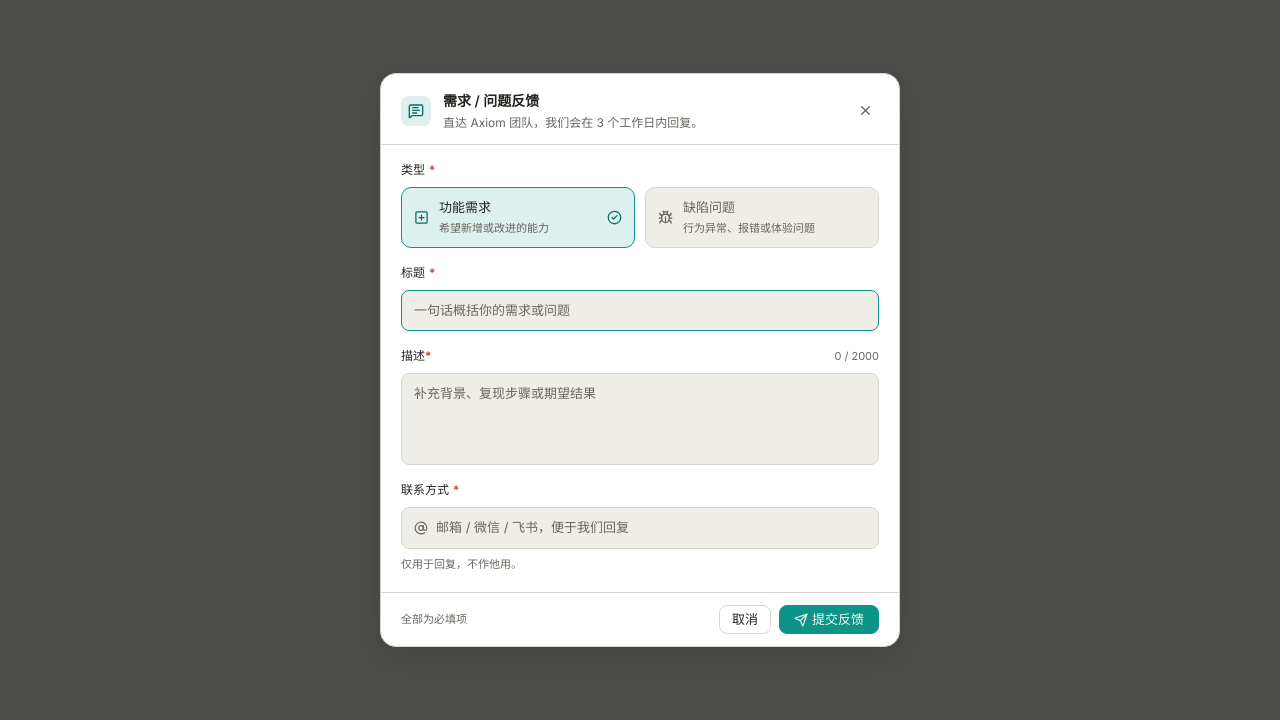
Test: FeedbackDialog (RTL) › 空表单提交：显示逐项错误与「请修正 3 处问题」，不发起提交
Click the button "提交反馈" at (829, 620), box [779, 605, 879, 634]
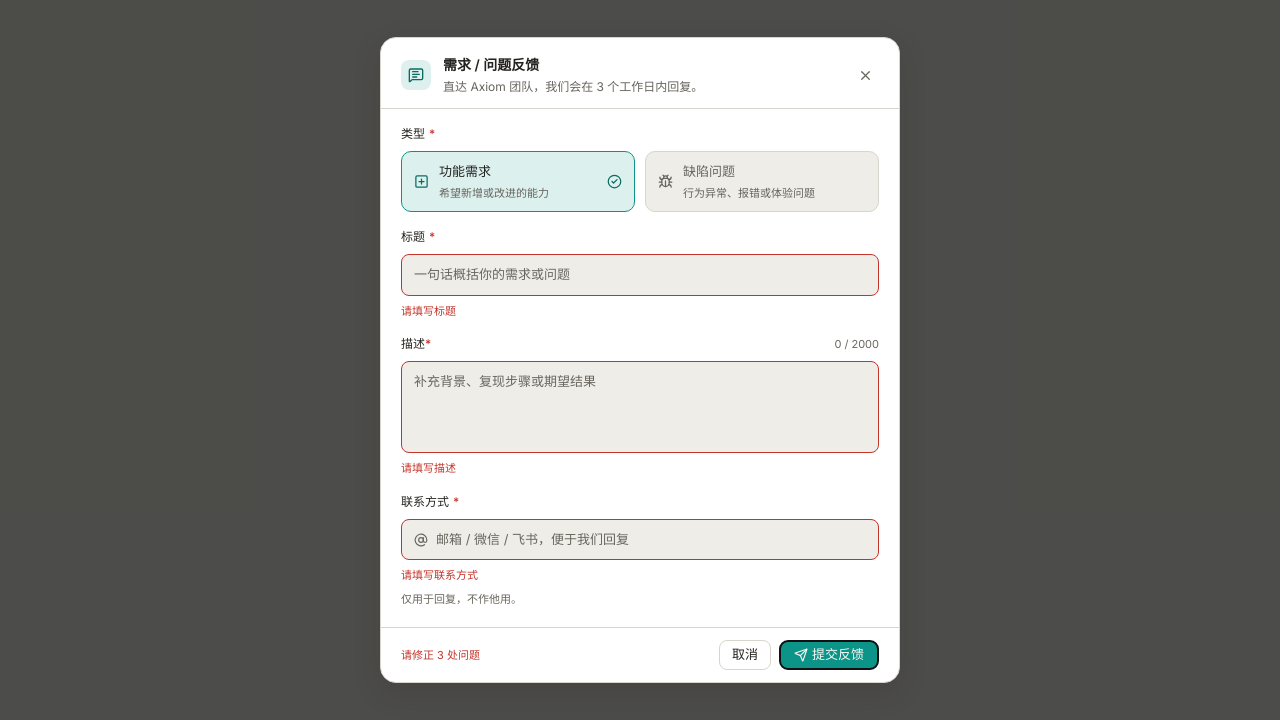
Result: the text "请填写标题" is shown at [401, 304, 456, 318]
Result: the text "请填写描述" is shown at [401, 461, 456, 475]
Result: the text "请填写联系方式" is shown at [401, 568, 478, 582]
